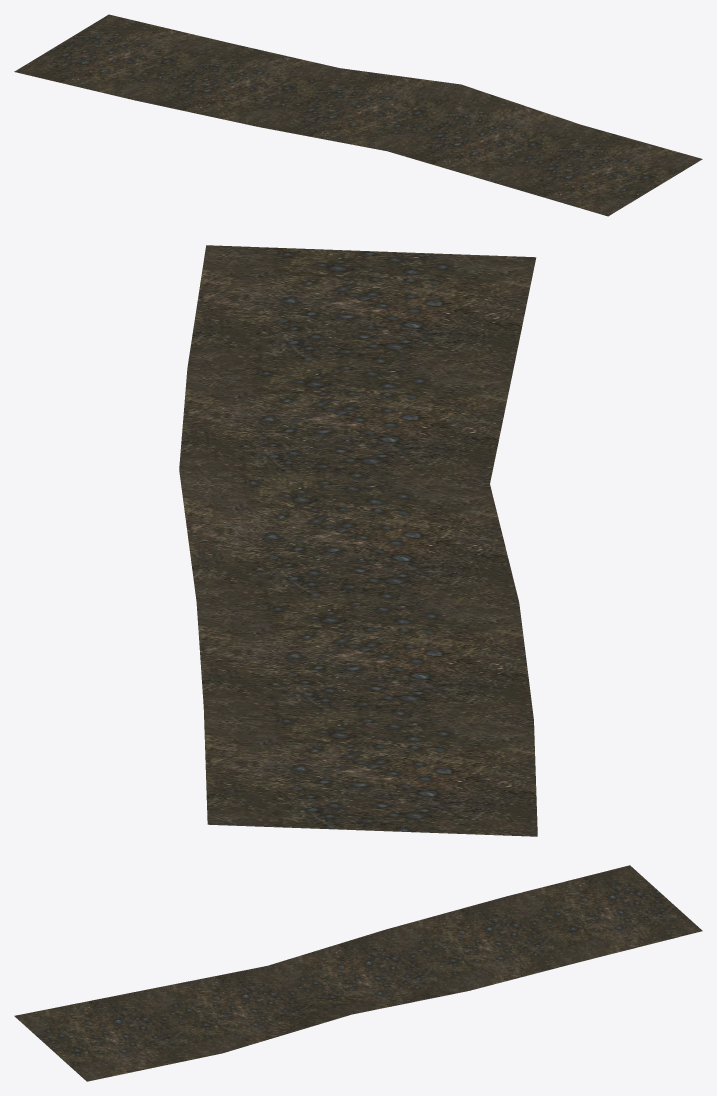
The model's file is blend_path.fbx.
3 renders of one model, top to bottom at view 1: azimuth 30°, elevation 25°; view 2: azimuth 150°, elevation 25°; view 3: azimuth 270°, elevation 25°, orthographic. The views are drawn at different scales.
Parts seen in each view (by area): view 1: obj0.012; view 2: obj0.012; view 3: obj0.012.
Part boxes in pixels (x1,y1,x2,y2): obj0.012: [14, 14, 702, 216]; obj0.012: [179, 245, 537, 836]; obj0.012: [14, 865, 702, 1081].
Size of the model in its own units: 13.05 by 0.2633 by 17.55.
